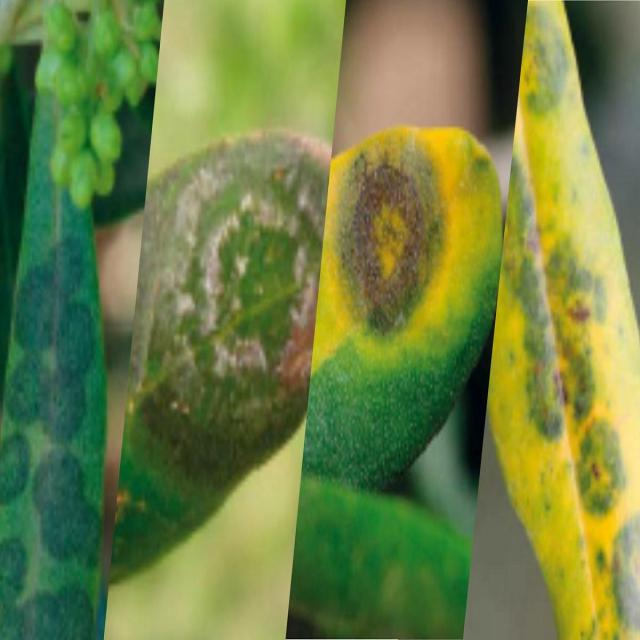Peacock Eye: (489, 0, 639, 639), (117, 133, 329, 546), (303, 127, 502, 489), (0, 97, 106, 639)
